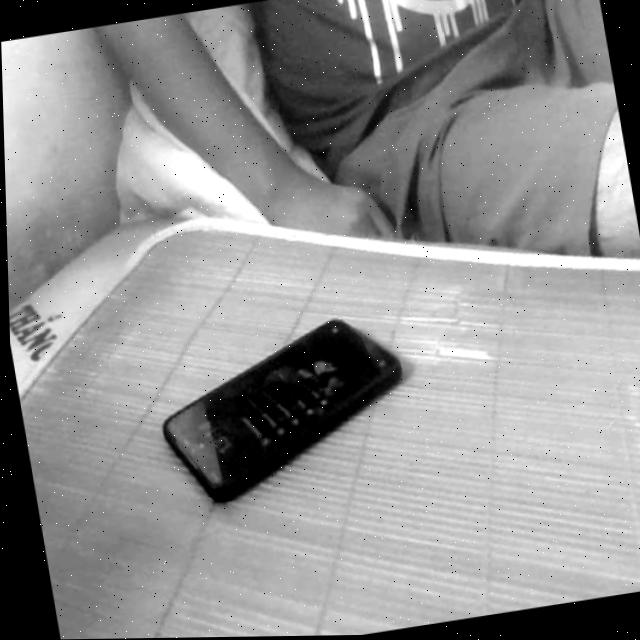phone: (127, 293, 435, 531)
